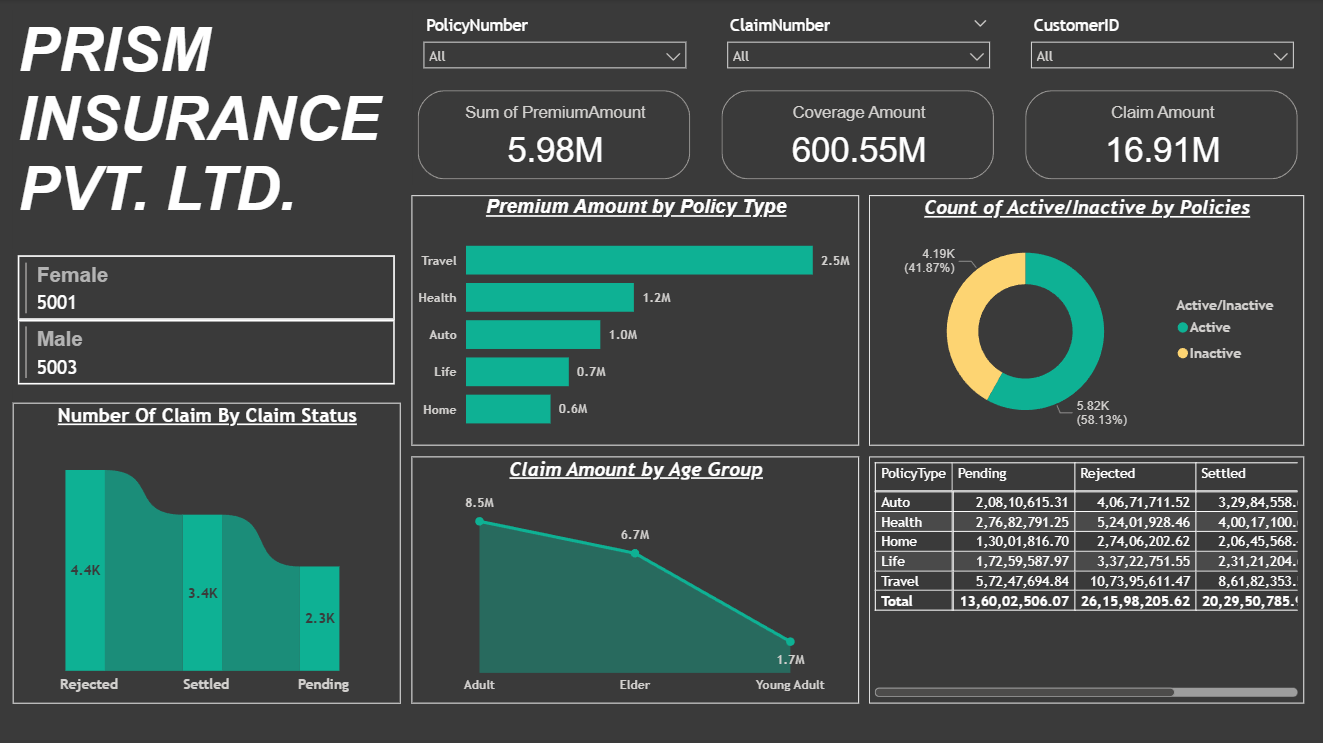

Layout of this report page (visuals, bound fields, positions):
{"tool":"powerbi","page":{"name":"Dashboard","canvas":[1280,720],"ordinal":0},"visuals":[{"type":"slicer","fields":{"Values":["InsuranceData.PolicyNumber"]},"box":[399.3,10.9,273.9,72.4],"z":0},{"type":"slicer","fields":{"Values":["InsuranceData.ClaimNumber"]},"box":[692.5,10.9,273.9,72.4],"z":1000},{"type":"slicer","fields":{"Values":["InsuranceData.CustomerID"]},"box":[985.7,10.9,273.9,72.4],"z":2000},{"type":"textbox","box":[13.3,10.9,374,230.4],"z":3000},{"type":"cardVisual","fields":{"Data":["Sum(InsuranceData.PremiumAmount)"]},"box":[399.3,83.2,273.9,96.5],"z":4000},{"type":"cardVisual","fields":{"Data":["Sum(InsuranceData.CoverageAmount)"]},"box":[692.5,83.2,273.9,96.5],"z":5000},{"type":"cardVisual","fields":{"Data":["Sum(InsuranceData.ClaimAmount)"]},"box":[985.7,83.2,273.9,96.5],"z":6000},{"type":"multiRowCard","fields":{"Values":["InsuranceData.Gender","CountNonNull(InsuranceData.Gender)"]},"box":[13.6,242,374.1,148.1],"z":7000},{"type":"ribbonChart","title":"Number Of Claim By Claim Status","fields":{"Category":["InsuranceData.ClaimStatus"],"Y":["CountNonNull(InsuranceData.ClaimStatus)"]},"box":[13.6,390.1,374.1,290.1],"z":8000},{"type":"barChart","title":"Premium Amount by Policy Type","fields":{"Category":["InsuranceData.PolicyType"],"Y":["Sum(InsuranceData.PremiumAmount)"]},"box":[397.5,188.9,432.1,242],"z":9000},{"type":"lineChart","title":"Claim Amount by Age Group","fields":{"Category":["InsuranceData.Age Group"],"Y":["Sum(InsuranceData.ClaimAmount)"]},"box":[397.5,442,432.1,238.3],"z":10000},{"type":"donutChart","title":"Count of Active/Inactive by Policies","fields":{"Category":["InsuranceData.Active/Inactive"],"Y":["CountNonNull(InsuranceData.Active/Inactive)"]},"box":[839.5,188.9,419.8,242],"z":11000},{"type":"pivotTable","fields":{"Rows":["InsuranceData.PolicyType"],"Columns":["InsuranceData.ClaimStatus"],"Values":["Sum(InsuranceData.CoverageAmount)"]},"box":[840,442,420,238],"z":12000}]}

Visuals, with their boxes in screenshot pixels (x1, y1, x2, y2), scaled from the page's 1280x720 canvas onto the 1323x743 screenshot:
slicer - InsuranceData.PolicyNumber: box(413, 11, 696, 86)
slicer - InsuranceData.ClaimNumber: box(716, 11, 999, 86)
slicer - InsuranceData.CustomerID: box(1019, 11, 1302, 86)
textbox: box(14, 11, 400, 249)
cardVisual - Sum(InsuranceData.PremiumAmount): box(413, 86, 696, 185)
cardVisual - Sum(InsuranceData.CoverageAmount): box(716, 86, 999, 185)
cardVisual - Sum(InsuranceData.ClaimAmount): box(1019, 86, 1302, 185)
multiRowCard - InsuranceData.Gender x CountNonNull(InsuranceData.Gender): box(14, 250, 401, 403)
"Number Of Claim By Claim Status" ribbonChart: box(14, 403, 401, 702)
"Premium Amount by Policy Type" barChart: box(411, 195, 857, 445)
"Claim Amount by Age Group" lineChart: box(411, 456, 857, 702)
"Count of Active/Inactive by Policies" donutChart: box(868, 195, 1302, 445)
pivotTable - InsuranceData.PolicyType x InsuranceData.ClaimStatus: box(868, 456, 1302, 702)
